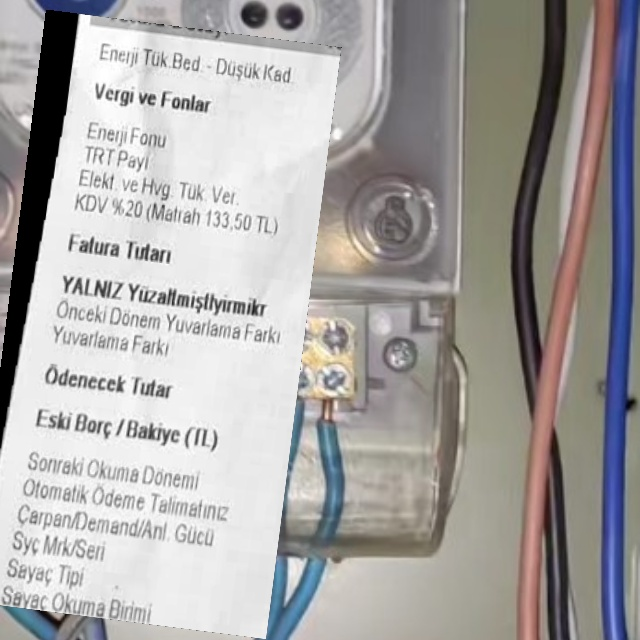electricity-bill: (0, 10, 341, 638)
